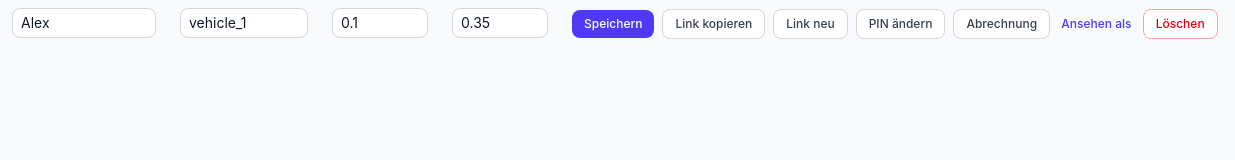
Scenario: AdminFriendRow › copies the friend link at any time
Click the button "Link kopieren": {"x": 714, "y": 24} 662,9 -> 765,39
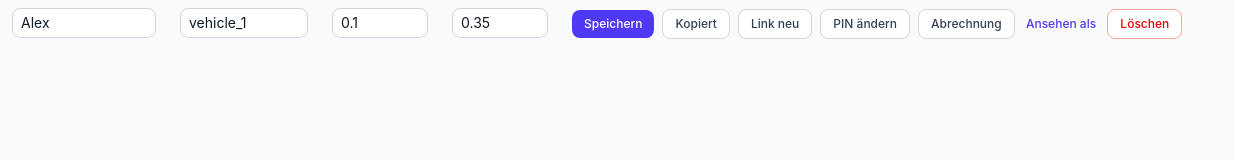
Expected: the text "Kopiert" is shown, 662,9 -> 730,39
